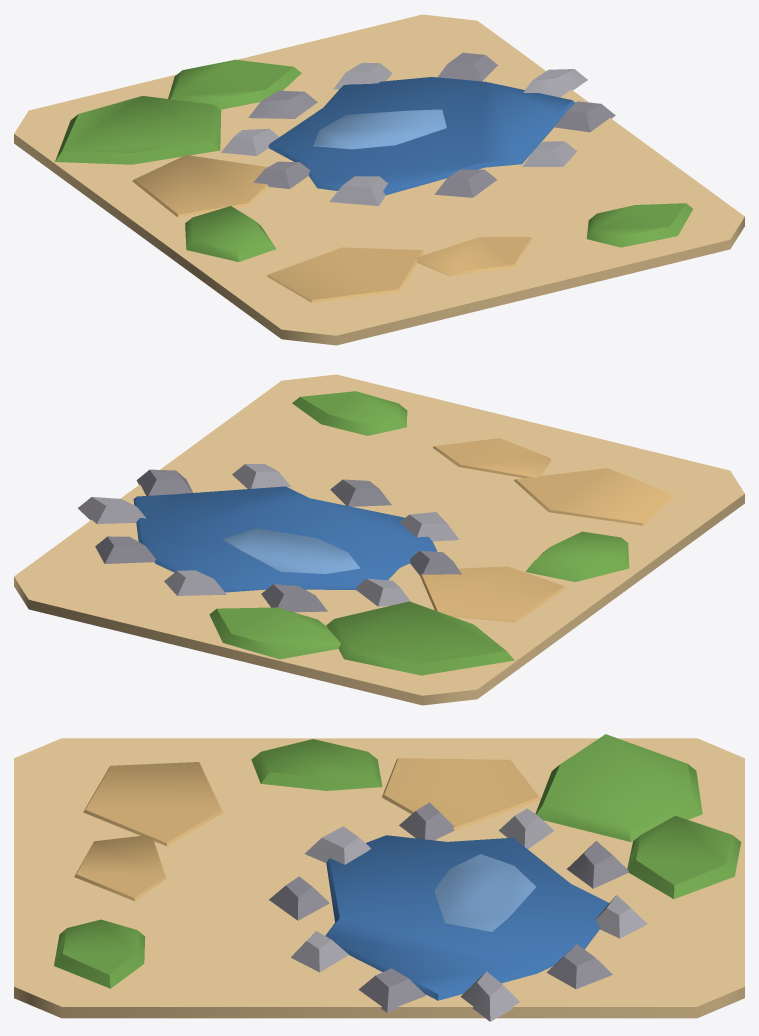
The model's file is terrarium_floor_frog.glb.
The picture shows the model from 3 angles, top to bottom: view 1: azimuth 30°, elevation 25°; view 2: azimuth 150°, elevation 25°; view 3: azimuth 270°, elevation 25°; orthographic projection. The views are drawn at different scales.
Visible parts, largest first — view 1: terrarium_floor_frog, water_pool; view 2: terrarium_floor_frog, water_pool; view 3: terrarium_floor_frog, water_pool.
Boxes of the visible parts, x1,y1,x2,y2 form: terrarium_floor_frog: [14, 14, 744, 345]; water_pool: [268, 77, 575, 195]; terrarium_floor_frog: [14, 374, 744, 705]; water_pool: [133, 486, 436, 592]; terrarium_floor_frog: [14, 734, 744, 1021]; water_pool: [325, 835, 608, 1000].
Size of the model in its own units: 4.2 by 0.19 by 4.6.
Materials: 1 (1 with a texture image).
